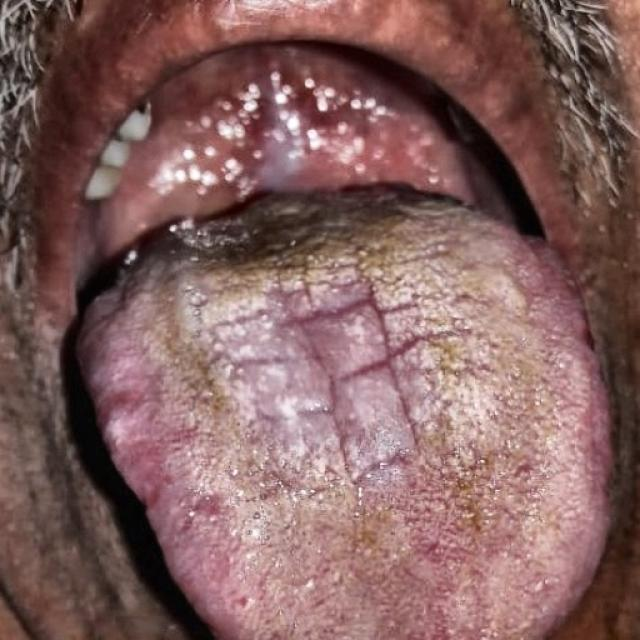leukoplakia-like-detection: (122, 196, 548, 572)
processing_area: (78, 176, 611, 639)
